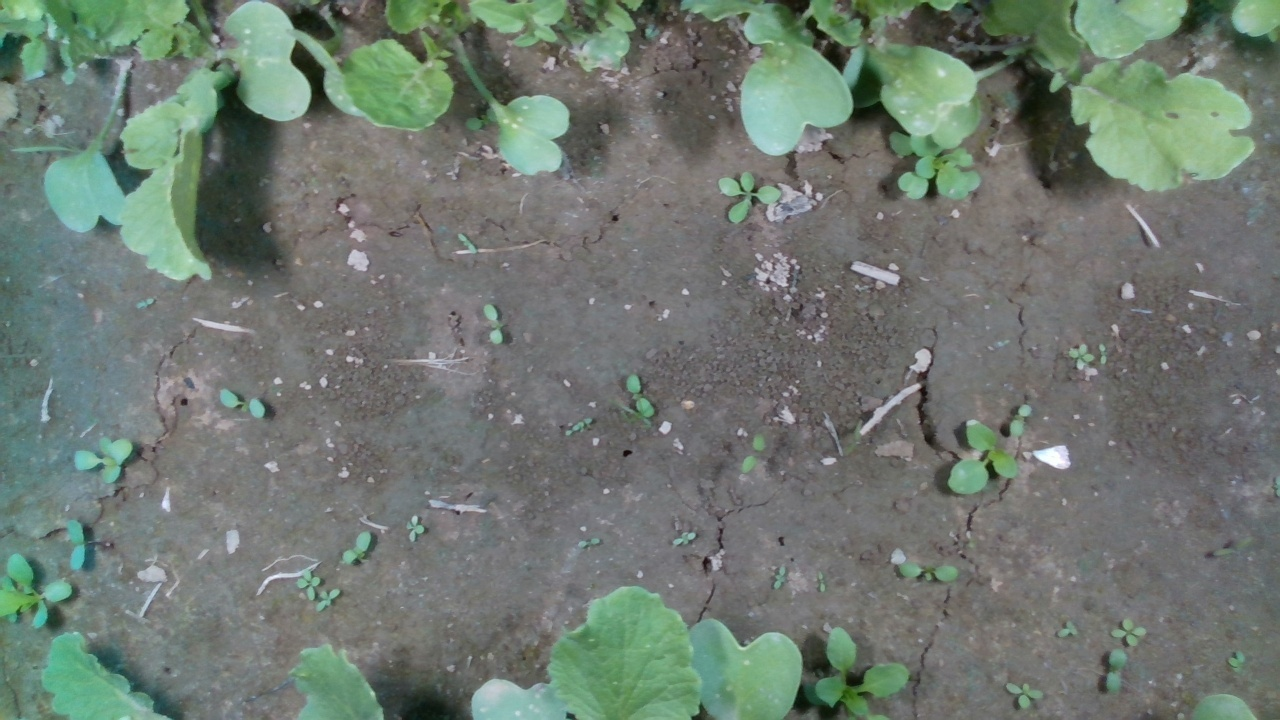weed: (716, 170, 780, 224), (72, 436, 134, 486), (217, 387, 266, 418), (625, 373, 656, 419), (897, 561, 960, 582), (738, 432, 768, 474), (1004, 680, 1044, 710), (478, 302, 504, 346), (1109, 618, 1148, 647), (341, 530, 372, 566), (65, 518, 86, 571), (1103, 647, 1126, 694), (1009, 403, 1032, 437), (1068, 342, 1095, 370), (314, 587, 340, 613), (1224, 651, 1249, 674), (407, 515, 426, 544), (1056, 620, 1080, 640), (770, 564, 788, 589), (574, 537, 604, 550), (674, 530, 697, 544), (814, 571, 828, 591), (1098, 342, 1108, 364)
